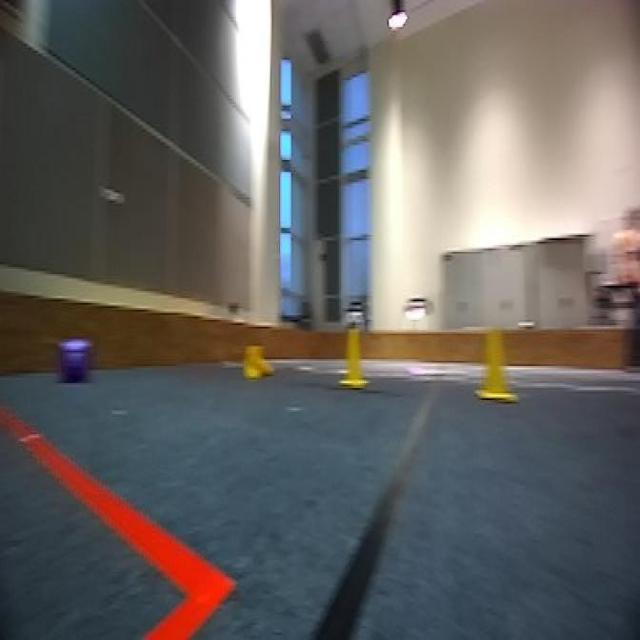frc_cone: (477, 327, 517, 407), (339, 323, 368, 388), (243, 342, 277, 380)
frc_cube: (61, 337, 92, 385)
